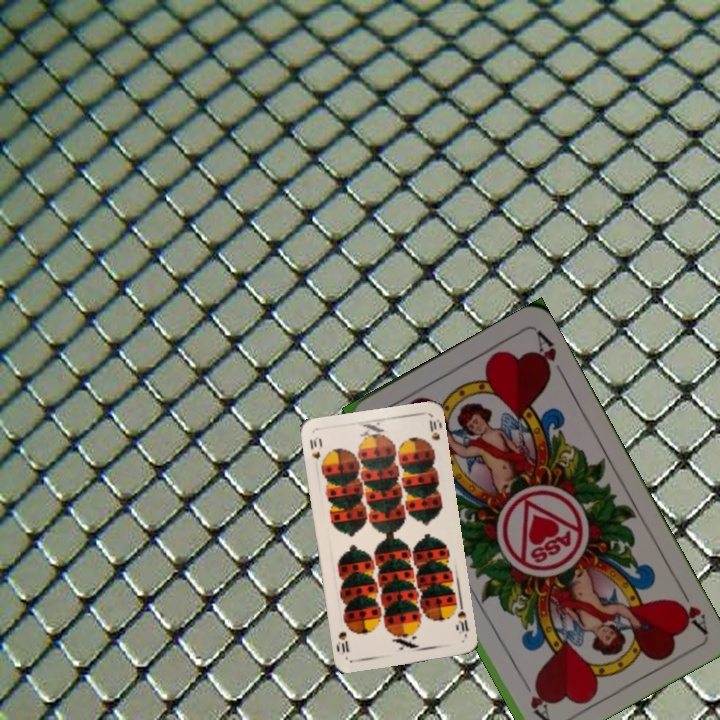HA: (669, 580, 710, 636)
S10: (305, 433, 326, 471), (452, 600, 471, 640)
